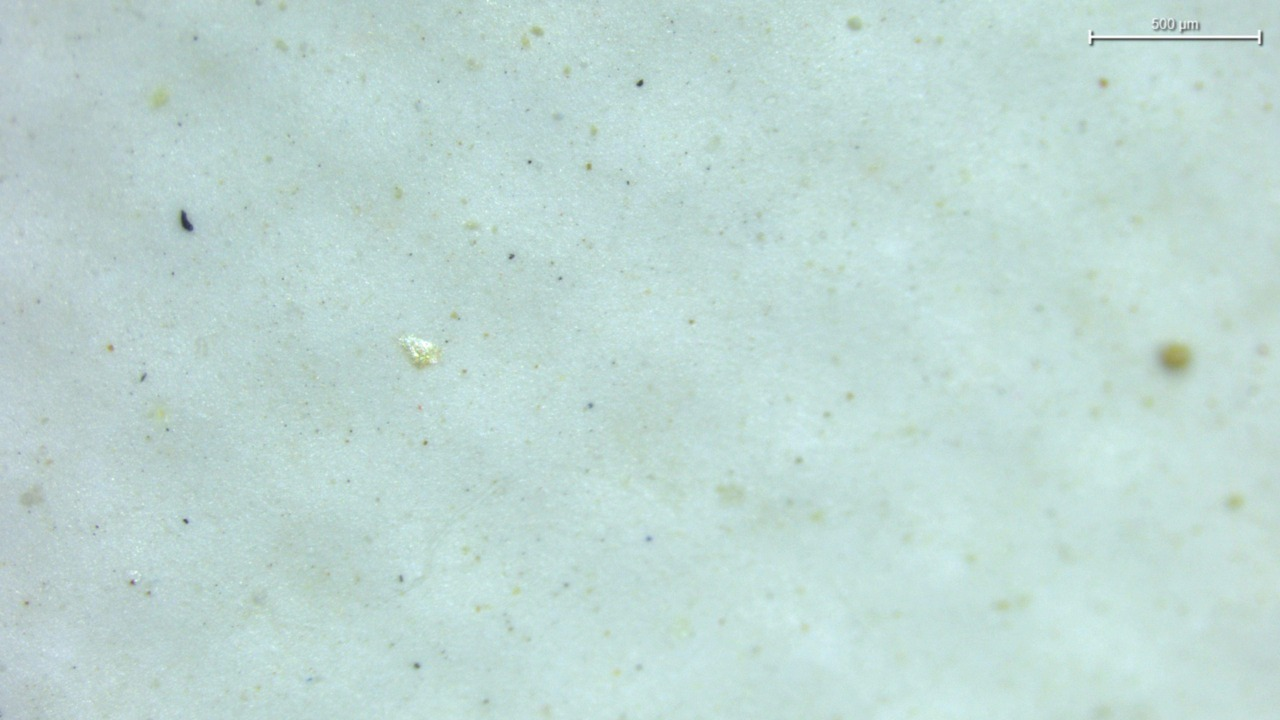microplastic_fragment: (399, 336, 441, 368)
